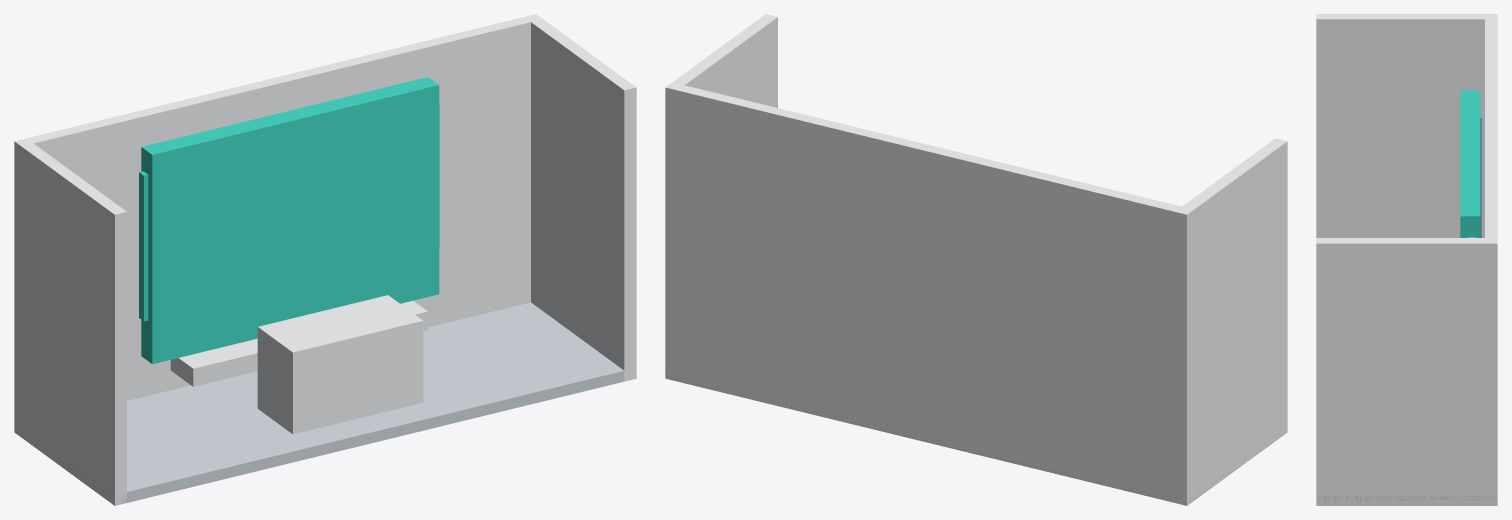
3 renders of one model, left to right at view 1: azimuth 30°, elevation 25°; view 2: azimuth 150°, elevation 25°; view 3: azimuth 270°, elevation 25°, orthographic. The views are drawn at different scales.
Parts seen in each view (by area): view 1: Exhibition Booth Concept; view 2: Exhibition Booth Concept; view 3: Exhibition Booth Concept.
Part boxes in pixels (bbox=[...]): Exhibition Booth Concept: bbox=[14, 14, 636, 505]; Exhibition Booth Concept: bbox=[665, 14, 1287, 505]; Exhibition Booth Concept: bbox=[1316, 14, 1497, 505].
Bounding box in the file's own units: 6 × 3.2 × 2.
